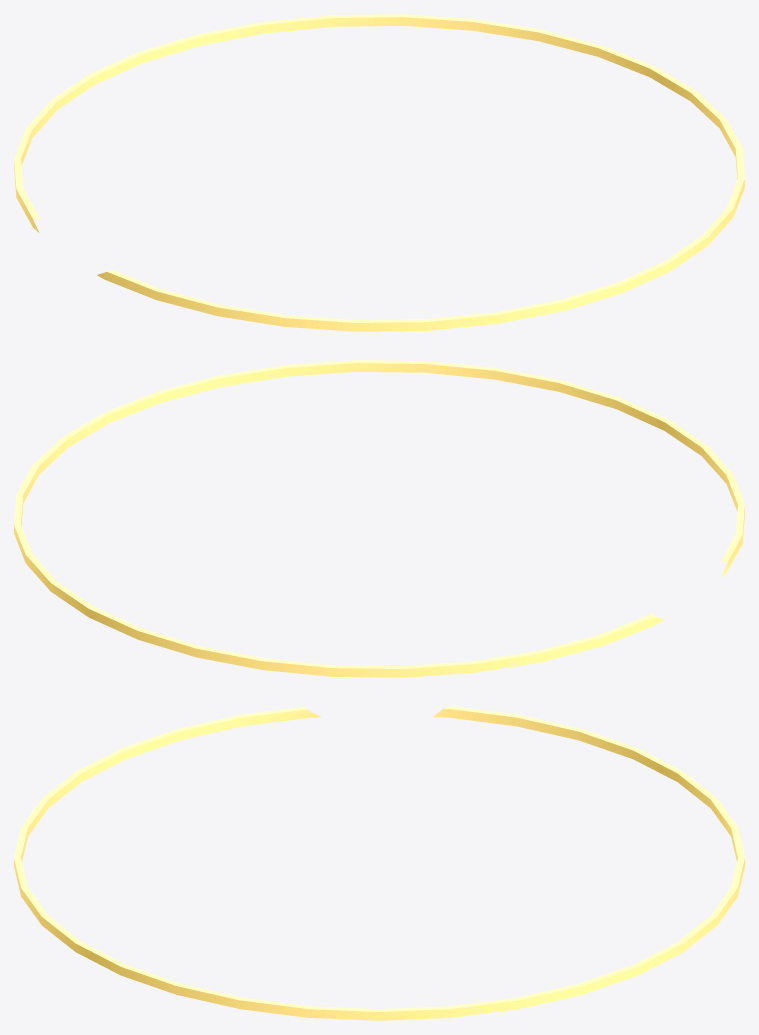
The picture shows the model from 3 angles, top to bottom: view 1: azimuth 30°, elevation 25°; view 2: azimuth 150°, elevation 25°; view 3: azimuth 270°, elevation 25°; orthographic projection.
Parts seen in each view (by area): view 1: Circle2; view 2: Circle2; view 3: Circle2.
Part boxes in pixels (left/top/right/bottom): Circle2: left=14, top=14, right=744, bottom=331; Circle2: left=14, top=360, right=744, bottom=677; Circle2: left=14, top=706, right=744, bottom=1020.
Bounding box in the file's own units: 7.86 × 0.1045 × 7.92.
